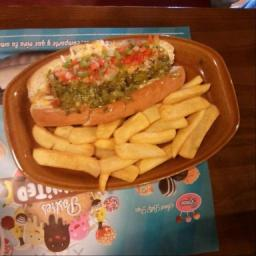hotdog: (28, 91, 162, 129), (128, 65, 191, 106)
